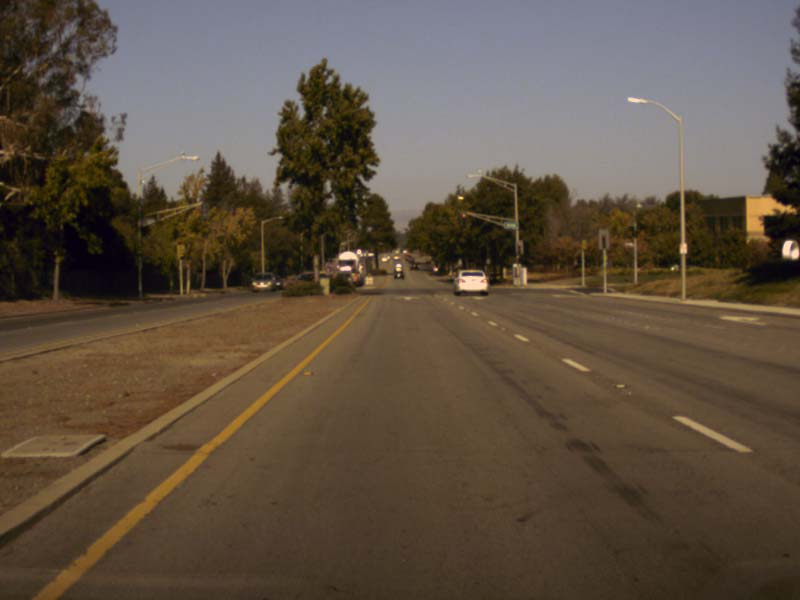Red: (461, 213, 466, 227)
